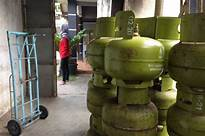gas_ijo: (105, 12, 164, 89), (101, 87, 158, 136), (168, 15, 205, 90), (165, 91, 205, 136), (86, 18, 121, 69), (86, 72, 117, 113)
